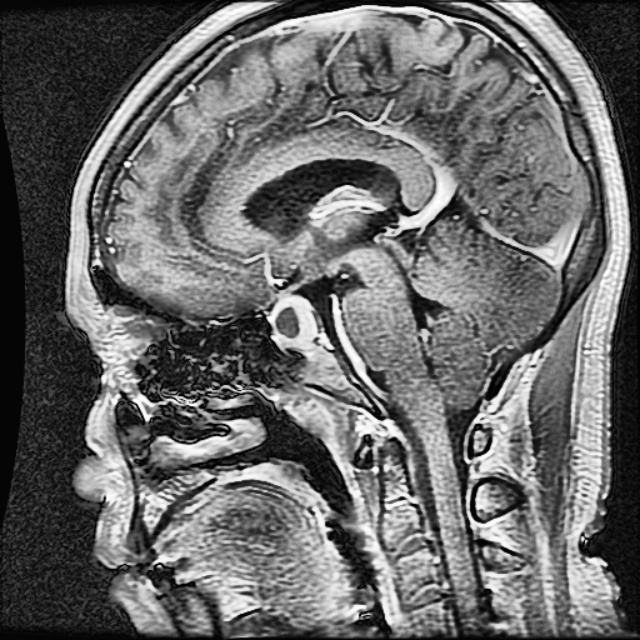Pituitary: (269, 297, 317, 348)
